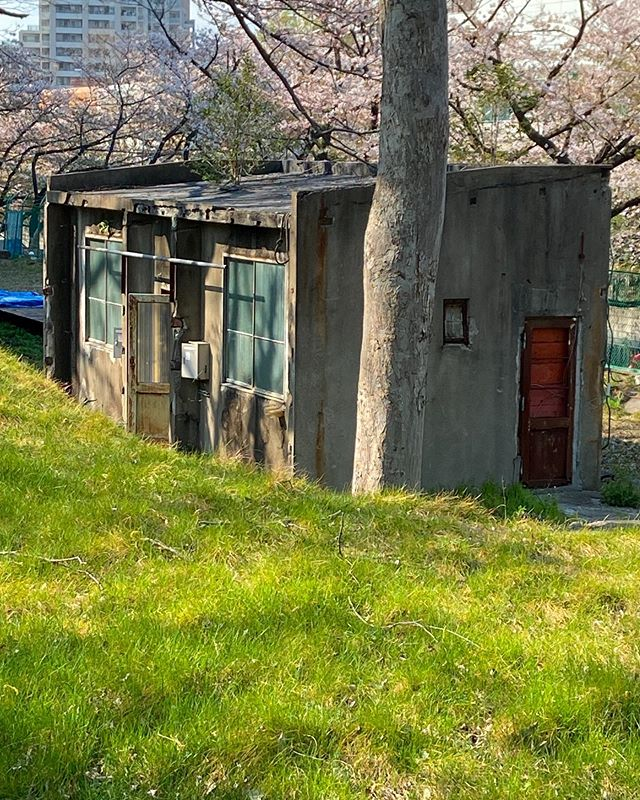building: (40, 137, 606, 507), (35, 1, 198, 93)
grass: (1, 443, 639, 794)
vegetation: (68, 1, 640, 170)
